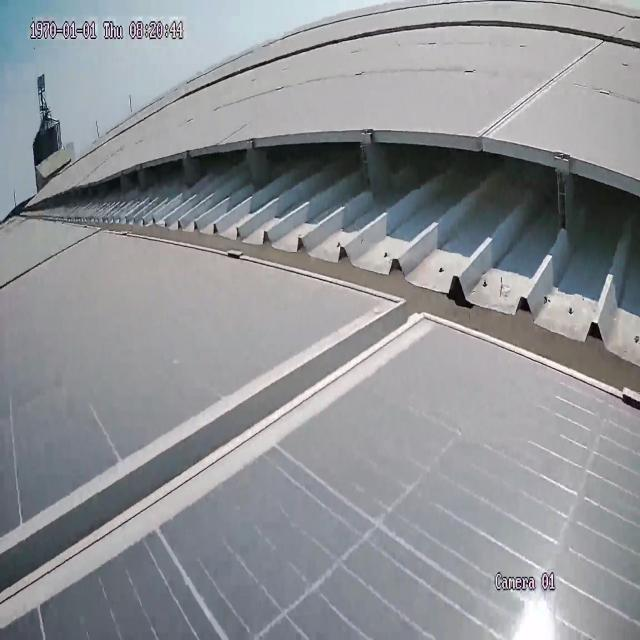interior panel: (468, 36, 617, 149), (0, 224, 103, 307)
outher panel: (15, 146, 640, 417)
